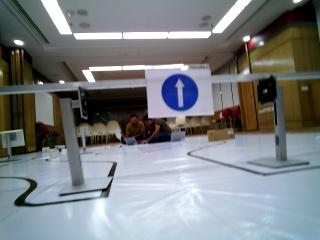straight: (147, 68, 213, 114)
